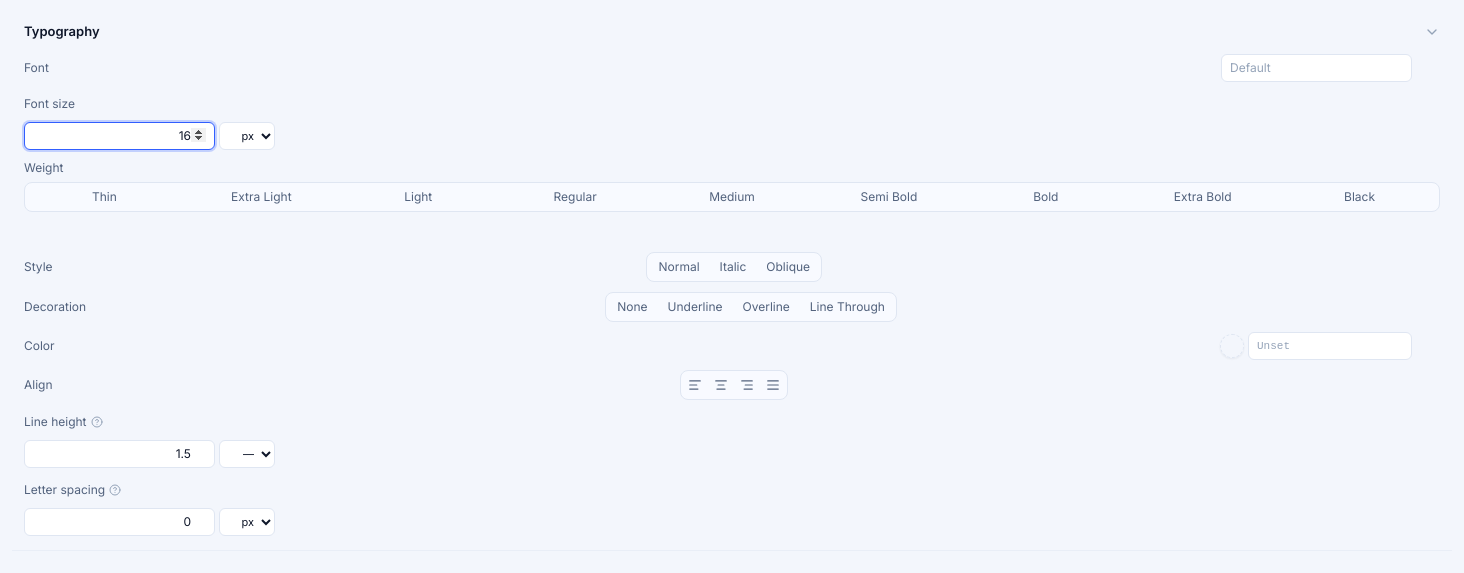
live numeric editing (BC-01.3) › Escape clears a transient validation message
The image size is (1464, 573).
Replace the text in the number field named "Font size" with "-3" at (120, 136), box [24,122,215,150]
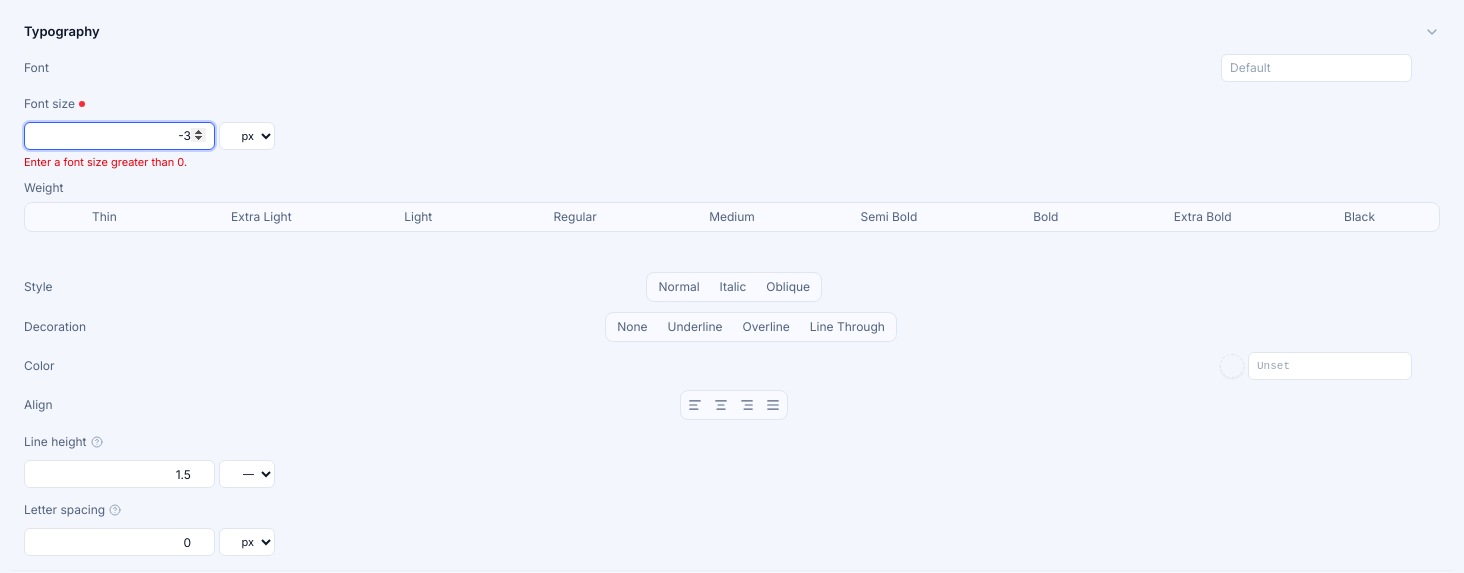
Now the message reads "Enter a font size greater than 0.", box [24,154,187,168]
Press Escape in the number field named "Font size", box [24,122,215,150]
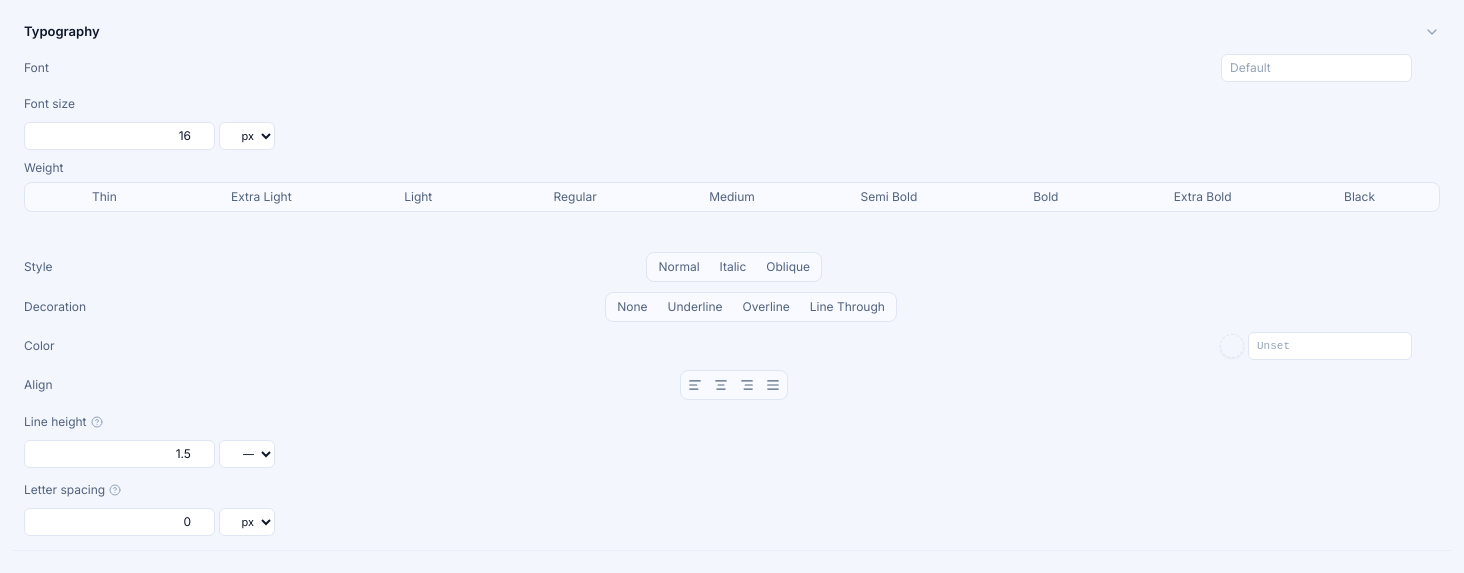
Now the message "Enter a font size greater than 0." is gone
